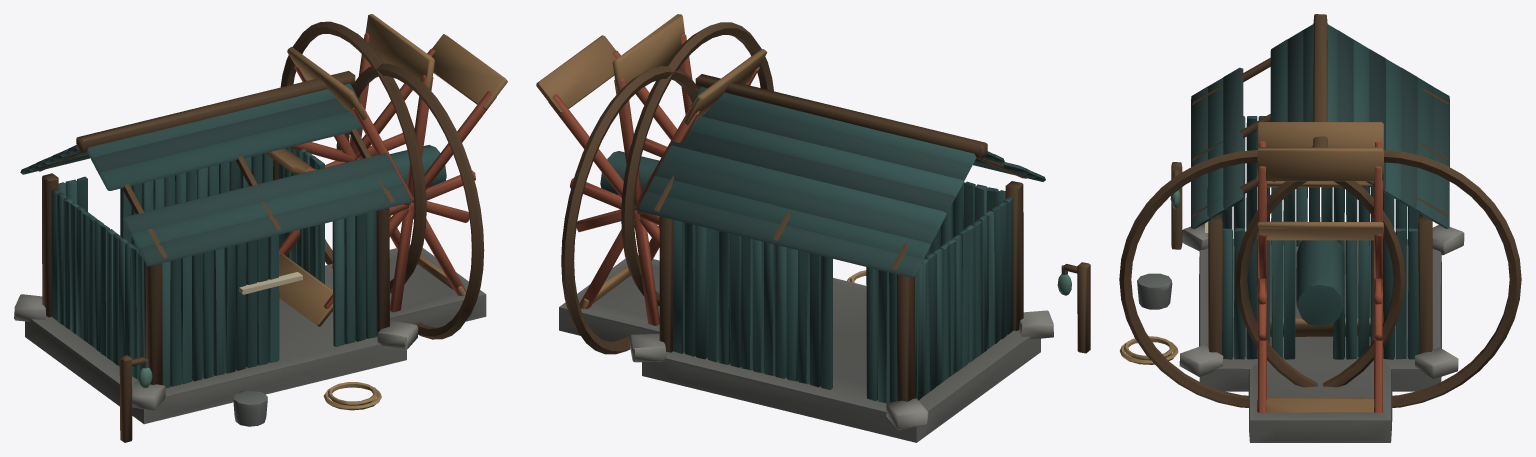
The model's file is sluice_shed_b_lod1.glb.
The picture shows the model from 3 angles, left to right: view 1: azimuth 30°, elevation 25°; view 2: azimuth 150°, elevation 25°; view 3: azimuth 270°, elevation 25°; orthographic projection. The views are drawn at different scales.
Visible parts, largest first — view 1: Surface.001; view 2: Surface.001; view 3: Surface.001.
Boxes of the visible parts, x1,y1,x2,y2 form: Surface.001: (14,14,507,442); Surface.001: (536,14,1090,442); Surface.001: (1119,14,1521,442).
Size of the model in its own units: 9.02 by 5.64 by 7.28.
